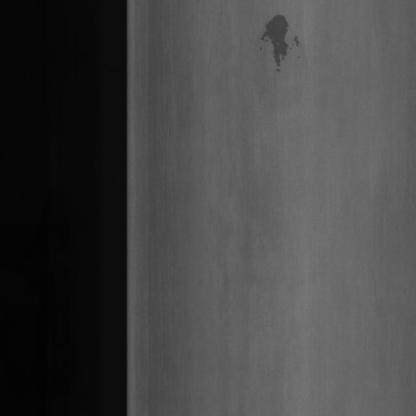oil_spot: (262, 8, 298, 86)
